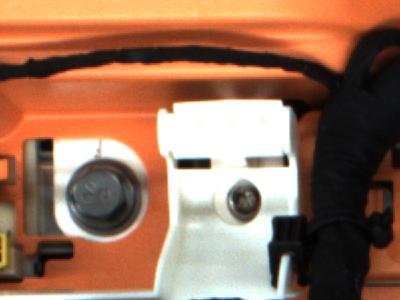nut_b: (66, 161, 141, 236)
